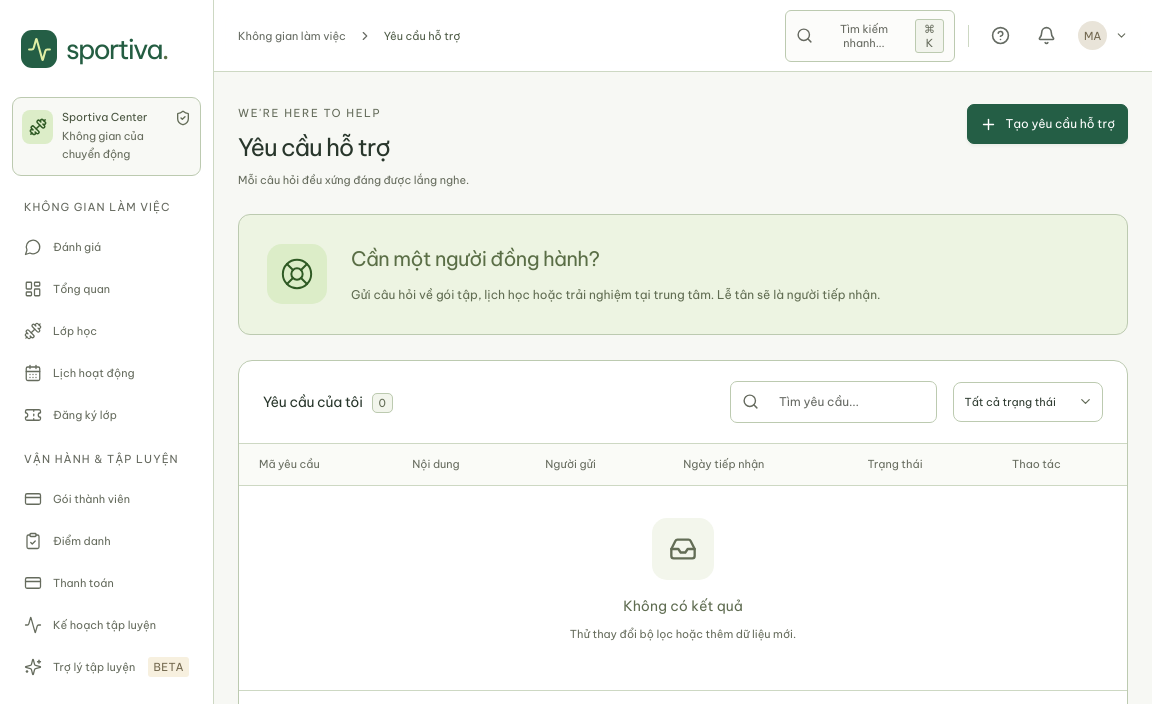
Support — API thật được mock, không ghi database › creates with subject/content only, refreshes the real list and keeps demo untouched
This screenshot has width=1152, height=704.
Click the button "Tạo yêu cầu hỗ trợ" at (1048, 124), box [968,104,1128,144]
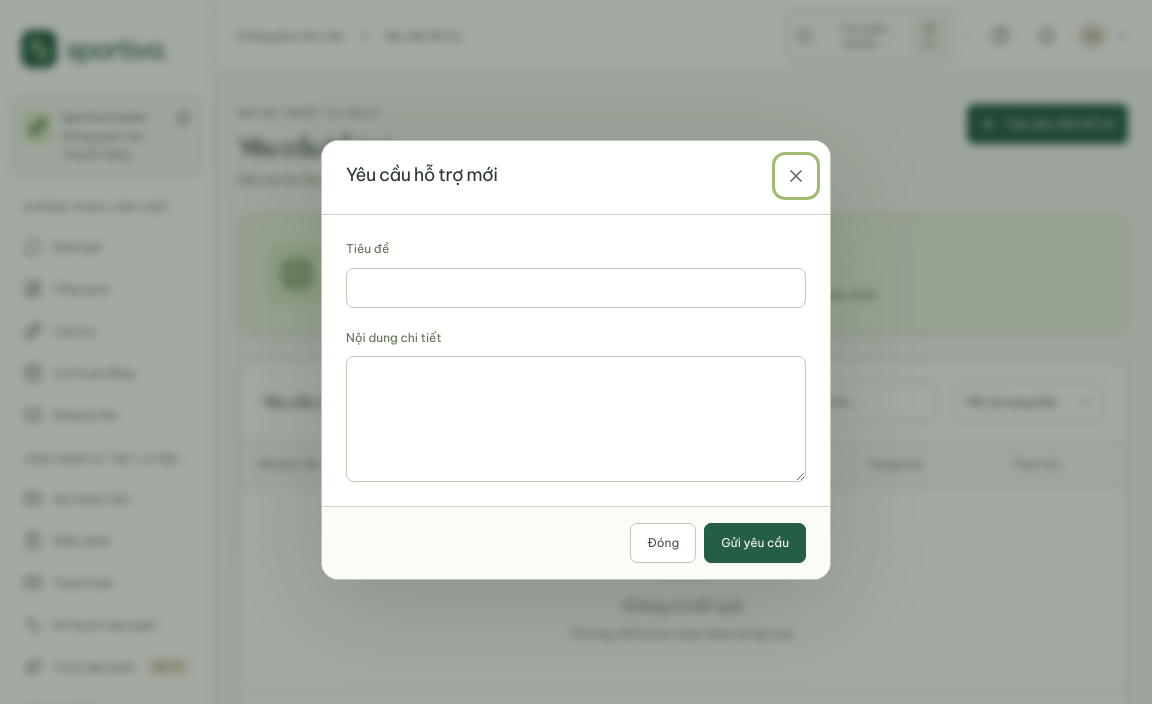
Type "Câu hỏi tiếng Việt" into the field labelled "Tiêu đề" at (576, 288), box [346,268,806,308]
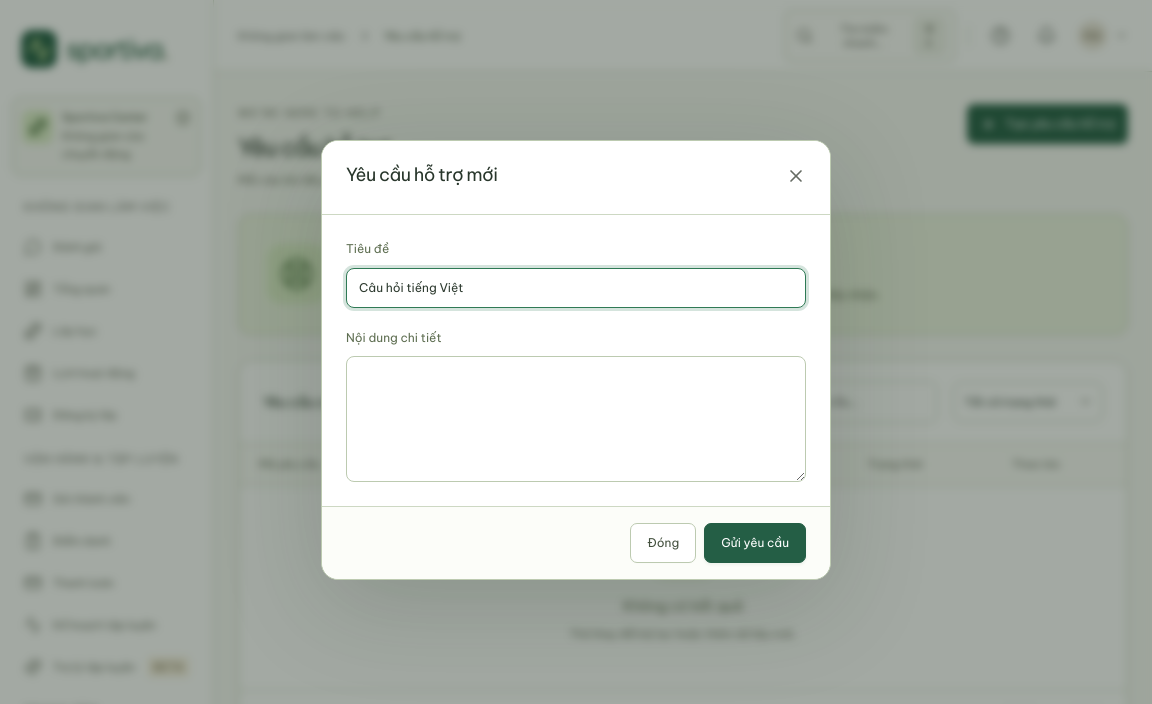
Type "Mong trung tâm hỗ trợ." into the text box labelled "Nội dung chi tiết" at (576, 419), box [346,356,806,482]
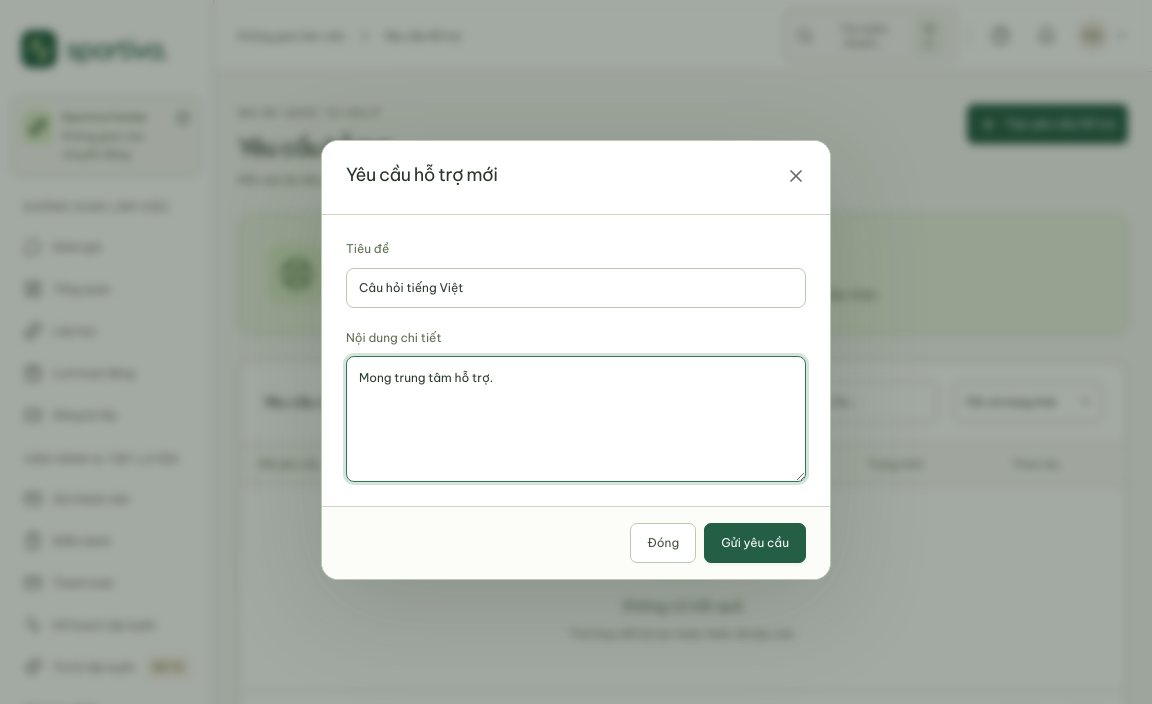
Click the button "Gửi yêu cầu" at (755, 543), box [704,523,806,563]
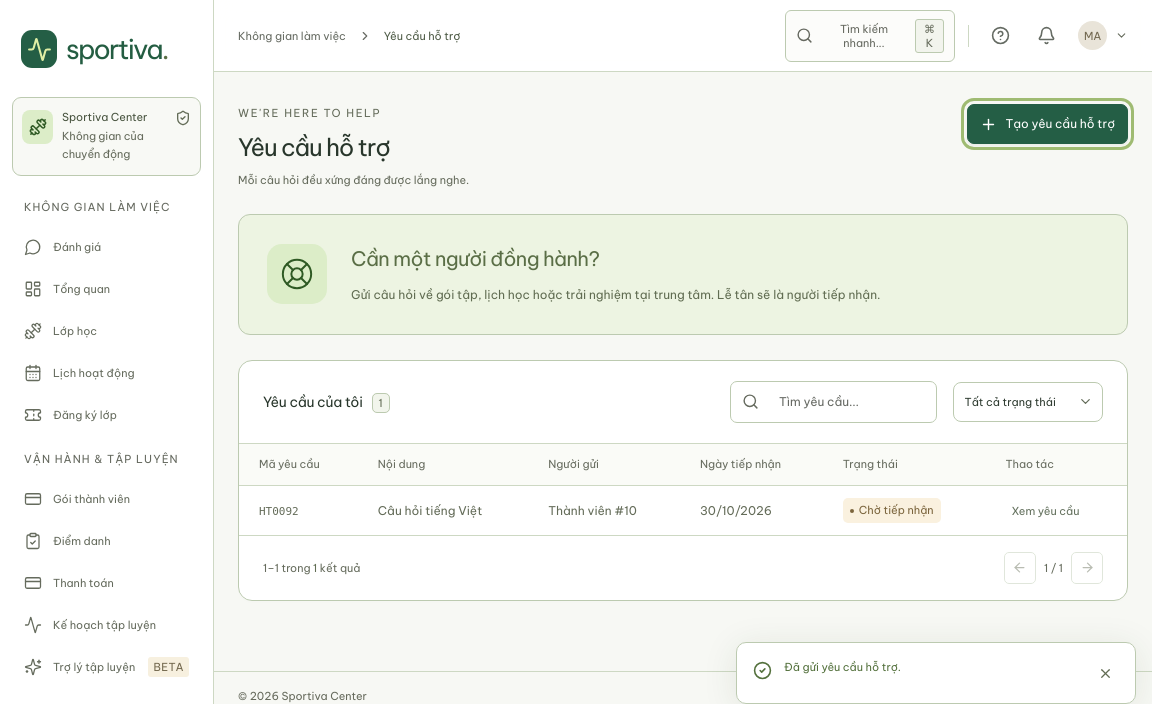
Now the button "Câu hỏi tiếng Việt" is shown, box [378,503,482,518]
Now the text "Đã gửi yêu cầu hỗ trợ." is shown, box [784,660,901,674]
